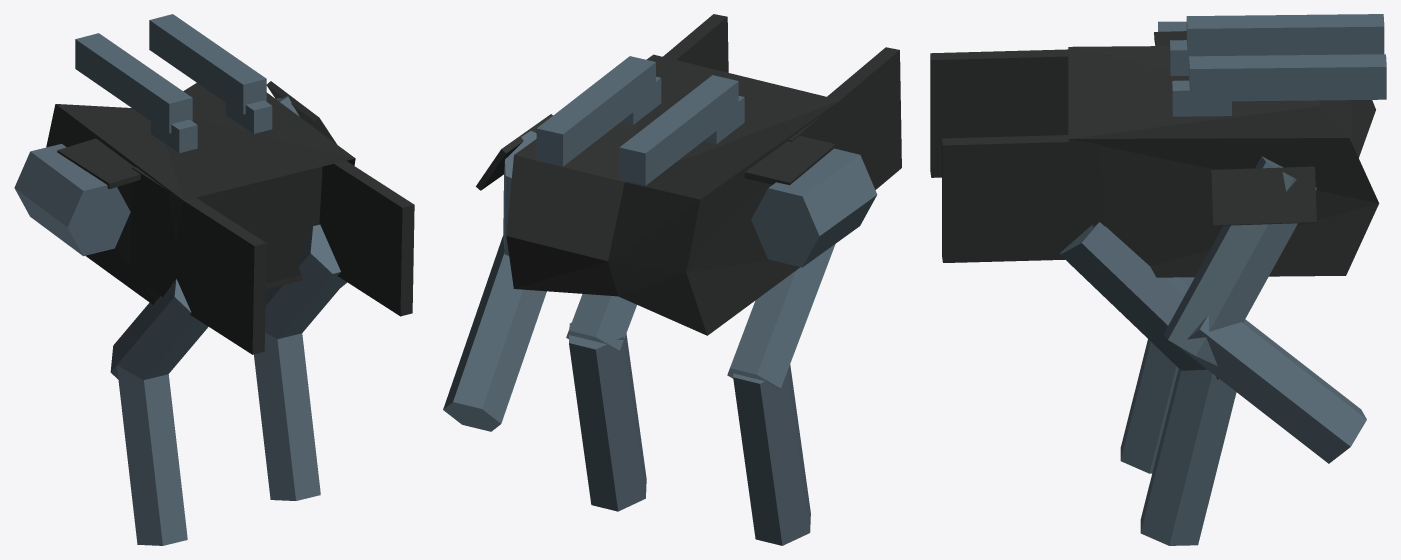
File: geko.fbx
3 renders of one model, left to right at view 1: azimuth 30°, elevation 25°; view 2: azimuth 150°, elevation 25°; view 3: azimuth 270°, elevation 25°, orthographic. The views are drawn at different scales.
Visible parts, largest first — view 1: Cube, Cube__6_, Cube__5_, Cylinder__3_, Cylinder__1_, Cylinder__6_, Cube__1_, Cube__2_, Cylinder__2_, Cylinder, Cube__8_, Cube__3_ (+2 smaller); view 2: Cube, Cylinder__1_, Cylinder__3_, Cylinder__5_, Cylinder__6_, Cube__6_, Cylinder__2_, Cube__1_, Cube__2_, Cylinder, Cube__8_, Cube__5_ (+4 smaller); view 3: Cube, Cube__5_, Cube__6_, Cylinder__5_, Cylinder__1_, Cube__2_, Cylinder__4_, Cube__1_, Cylinder, Cube__7_, Cylinder__3_, Cube__3_ (+1 smaller).
Boxes of the visible parts, box(x1,y1,x2,y2) form: Cube: box(46, 83, 355, 304); Cube__6_: box(130, 166, 266, 354); Cube__5_: box(319, 161, 414, 316); Cylinder__3_: box(117, 365, 187, 545); Cylinder__1_: box(254, 332, 320, 500); Cylinder__6_: box(14, 143, 130, 256); Cube__1_: box(75, 33, 192, 133); Cube__2_: box(149, 14, 266, 114); Cylinder__2_: box(110, 278, 208, 379); Cylinder: box(265, 224, 345, 339); Cube__8_: box(57, 138, 140, 189); Cube__3_: box(225, 100, 272, 133); Cube: box(506, 54, 840, 335); Cylinder__1_: box(569, 322, 646, 511); Cylinder__3_: box(733, 364, 810, 545); Cylinder__5_: box(443, 235, 546, 431); Cylinder__6_: box(751, 148, 877, 267); Cube__6_: box(788, 47, 901, 189); Cylinder__2_: box(727, 244, 835, 390); Cube__1_: box(619, 75, 738, 185); Cube__2_: box(536, 56, 655, 166); Cylinder: box(566, 294, 636, 351); Cube__8_: box(744, 135, 835, 185); Cube__5_: box(663, 14, 728, 72); Cube: box(1068, 46, 1379, 277); Cube__5_: box(942, 135, 1092, 262); Cube__6_: box(930, 49, 1115, 177); Cylinder__5_: box(1177, 315, 1366, 463); Cylinder__1_: box(1140, 368, 1236, 545); Cube__2_: box(1189, 54, 1386, 101); Cylinder__4_: box(1163, 156, 1316, 365); Cube__1_: box(1186, 14, 1384, 61); Cylinder: box(1060, 222, 1218, 379); Cube__7_: box(1211, 166, 1316, 225); Cylinder__3_: box(1120, 339, 1178, 473); Cube__3_: box(1172, 80, 1231, 116).
Size of the model in its own units: 1.06 by 1.31 by 1.17.
